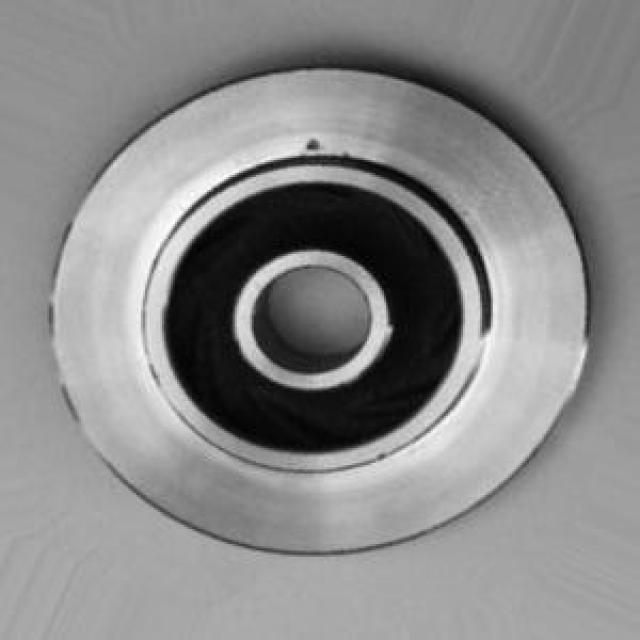Defect: (299, 131, 371, 169)
